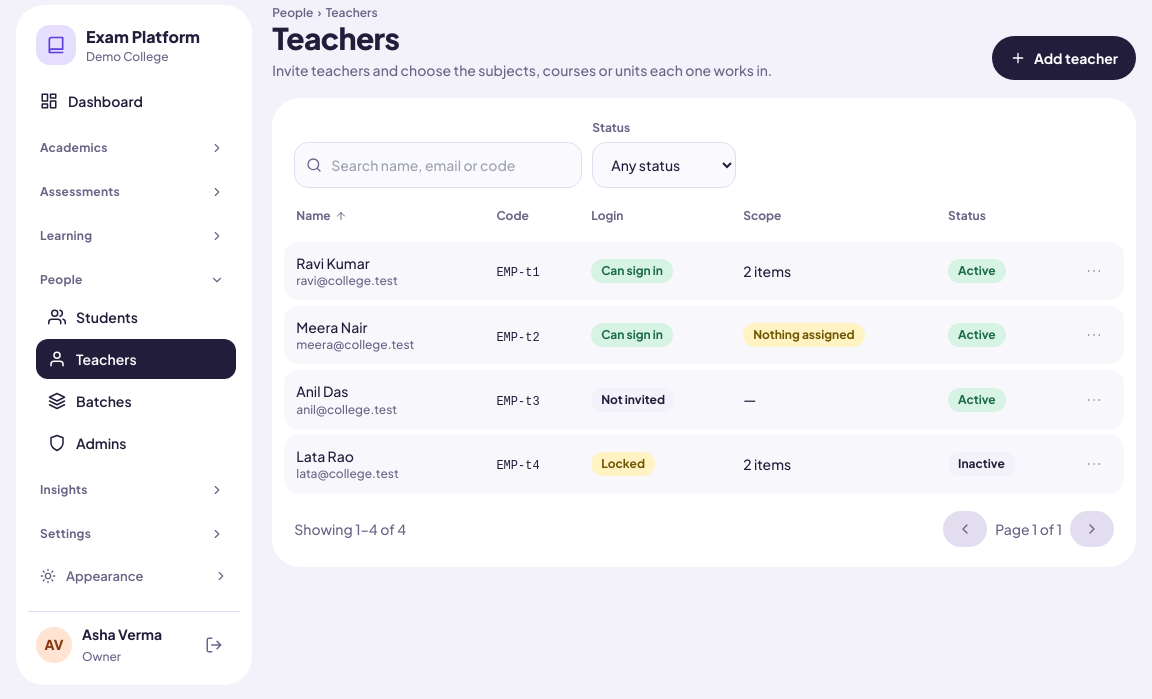
it: Teachers page › assigns a scope: current items pre-checked, deleted ones dropped, the full new set is sent
This screenshot has width=1152, height=699.
Expected: the text "Ravi Kumar" is shown, [296,254,370,272]
Click the button named "Actions for Ravi Kumar": (1094, 271) [1076,253,1112,289]
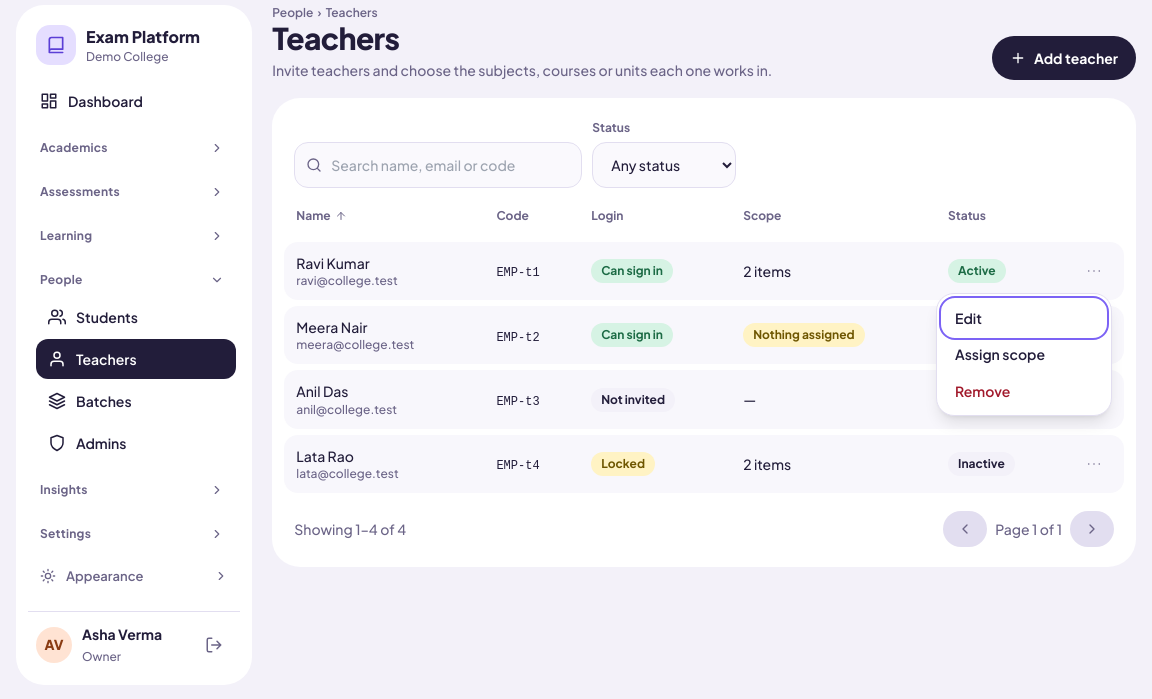
Click the menu item "Assign scope": (1024, 354) [943,336,1105,372]
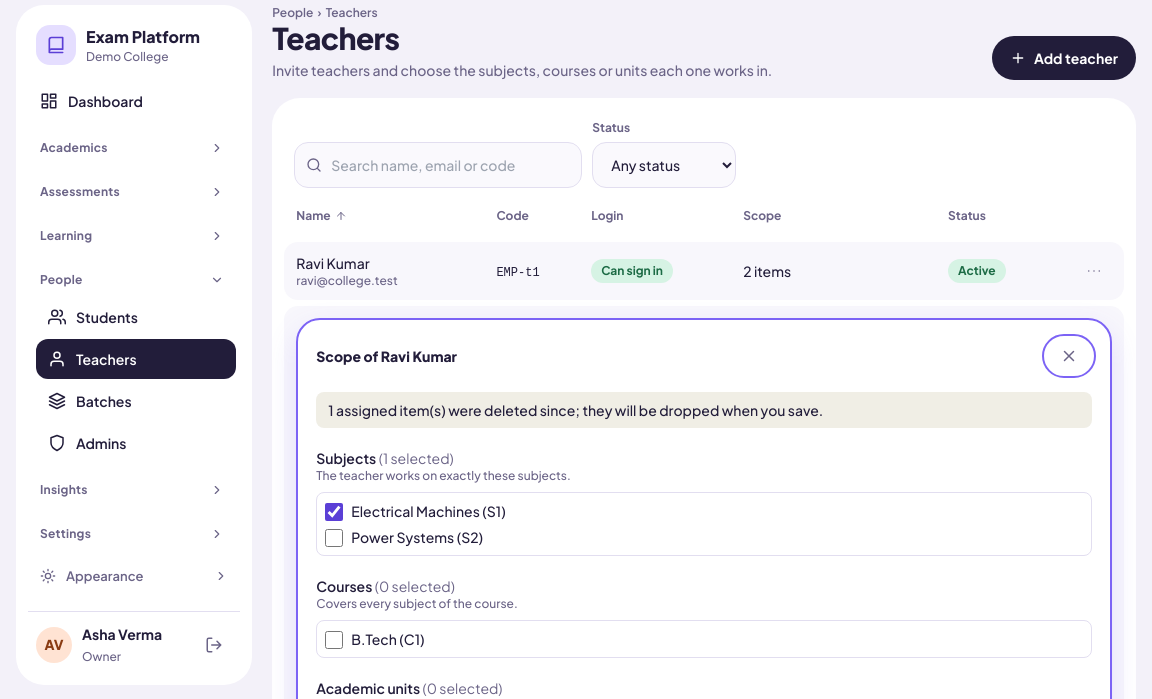
Expected: the checkbox labelled "Electrical Machines (S1)" is checked, [325,503,343,521]
Expected: the checkbox labelled "Power Systems (S2)" is not checked, [325,529,343,547]
Expected: the text "1 assigned item(s) were deleted" is shown, [316,392,1092,428]
Click the checkbox labelled "B.Tech (C1)": (334, 640) [325,631,343,649]
(page scrolled)
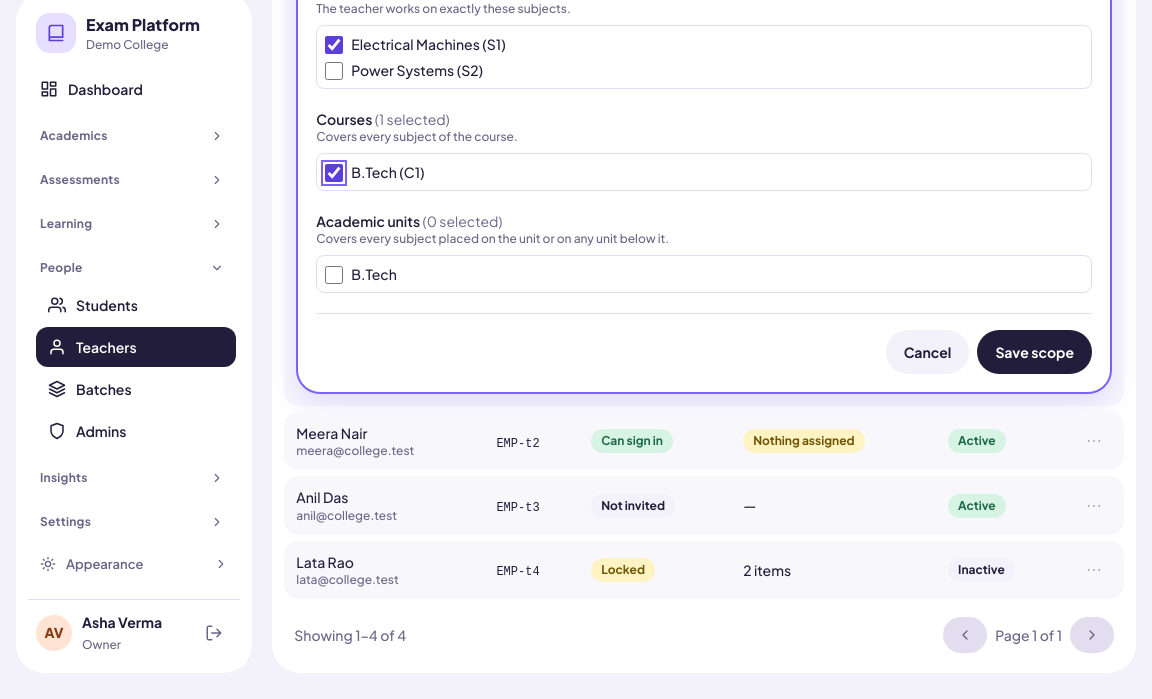
Click the button "Save scope": (1035, 352) [977,330,1092,374]
(page scrolled)
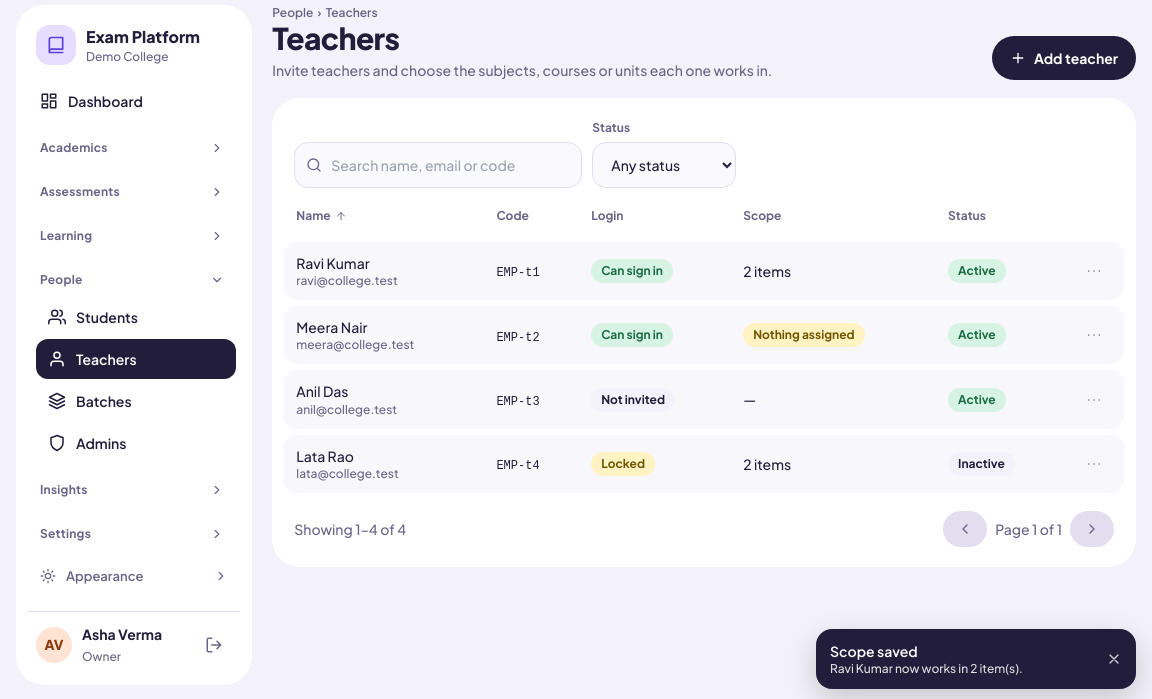
Expected: the text "Scope saved" is shown, [830,642,918,660]
